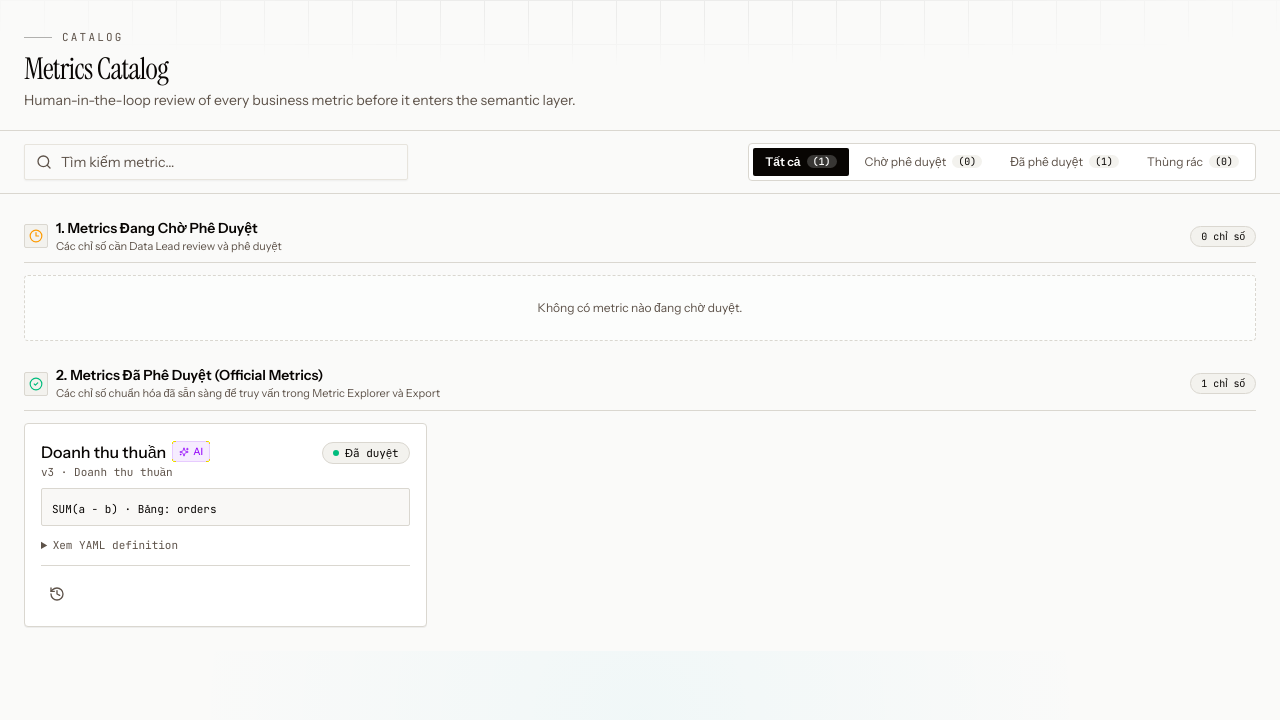
MetricsCatalogView history modal › confirms destructively, refetches history, notifies parent, and resets selectors
This screenshot has width=1280, height=720.
Click the button titled "Xem lịch sử phiên bản": (57, 594) [41,578,73,610]
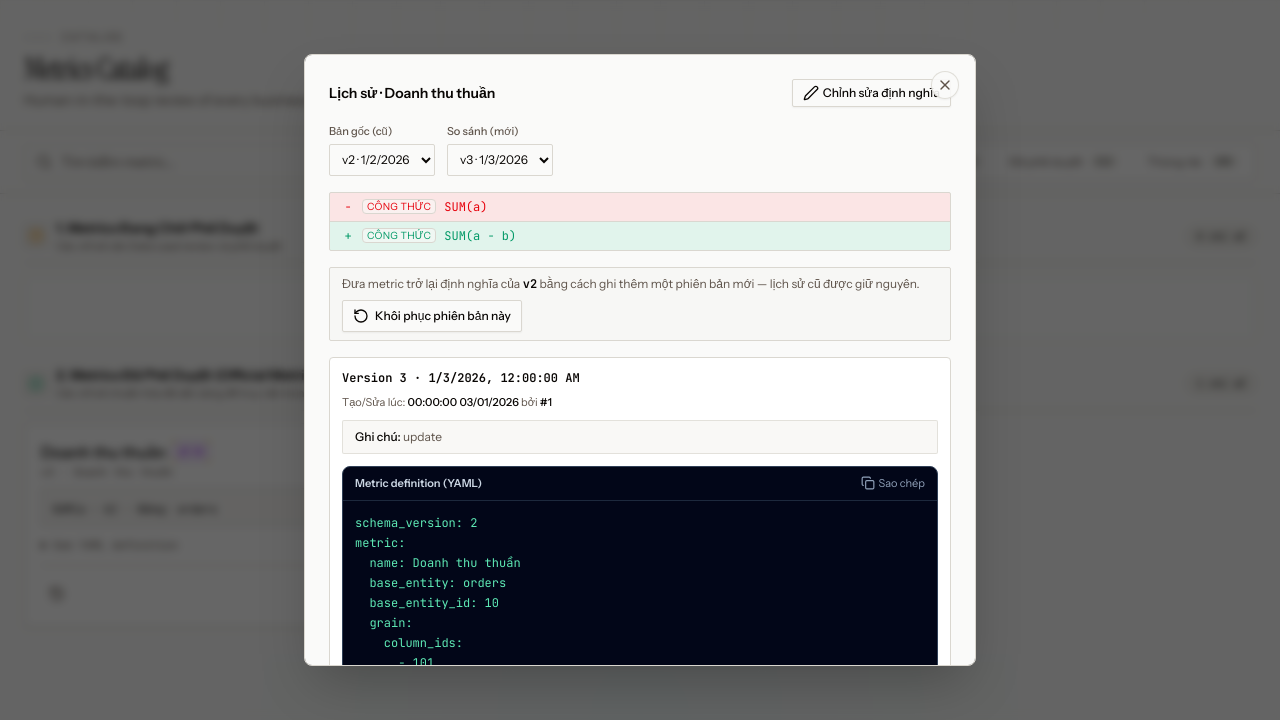
Expected: the dialog is shown, [304,54,976,666]
Click the button "Khôi phục phiên bản này": (432, 316) [342,300,522,332]
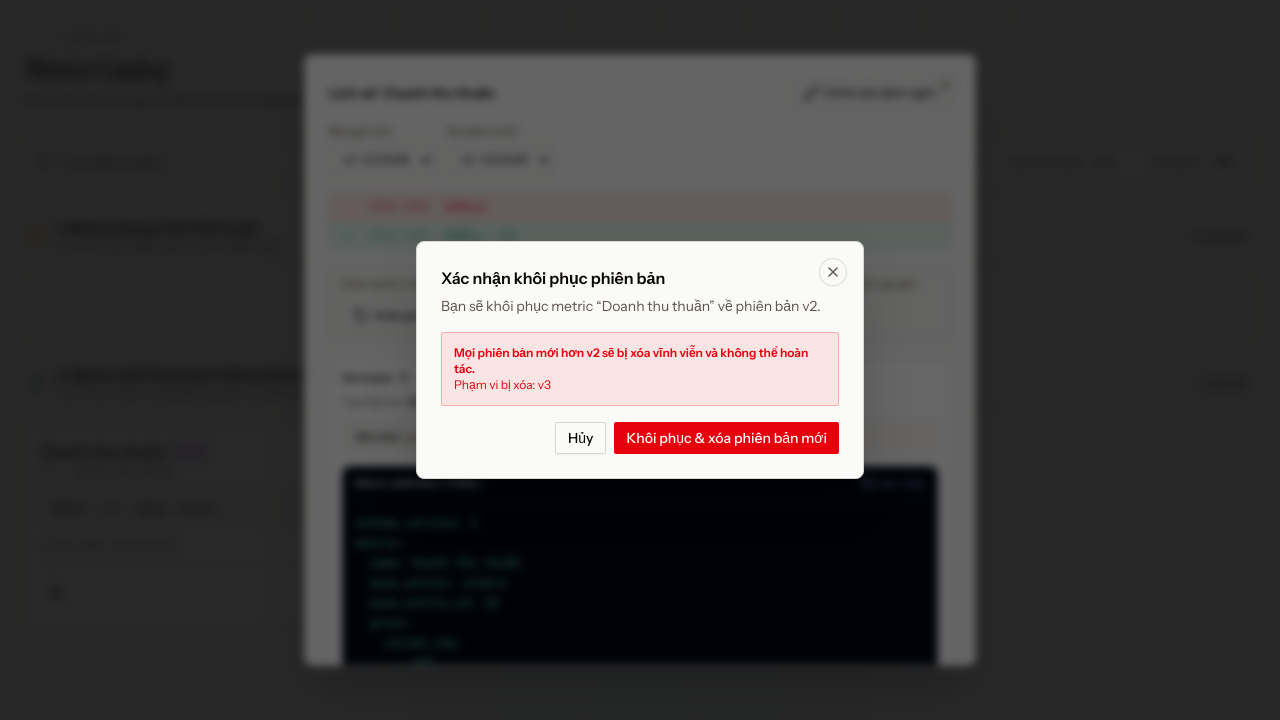
Expected: the text "xóa vĩnh viễn" is shown, [454,345,808,376]
Click the button "Khôi phục & xóa phiên bản mới": (727, 438) [614,422,839,454]
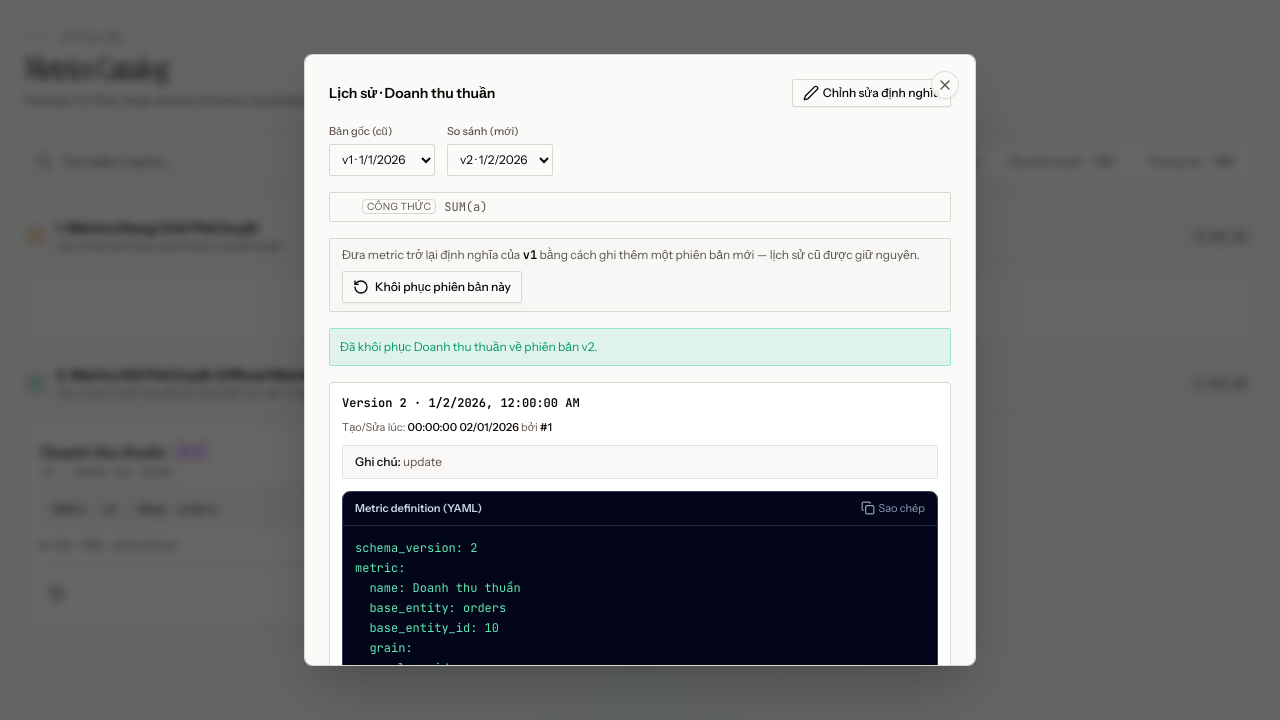
Expected: the text "Đã khôi phục Doanh thu thuần về phiên bản v2." is shown, [329,328,951,366]
Expected: the button "Khôi phục & xóa phiên bản mới" is gone
Expected: the dropdown labelled "Bản gốc (cũ)" shows "v1 · 1/1/2026", [329,144,435,176]
